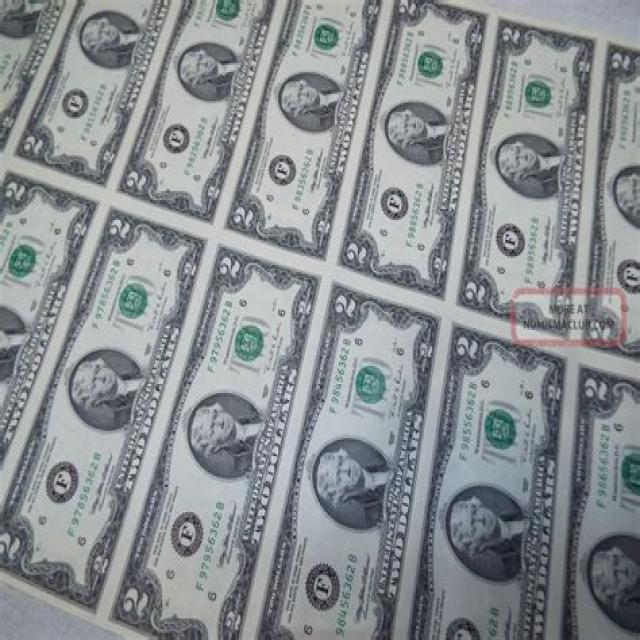Two: (0, 204, 218, 626), (104, 236, 328, 640), (223, 268, 447, 640), (401, 312, 573, 640), (452, 0, 608, 344), (332, 0, 498, 310), (219, 0, 389, 265), (112, 0, 284, 229), (9, 0, 180, 199)
